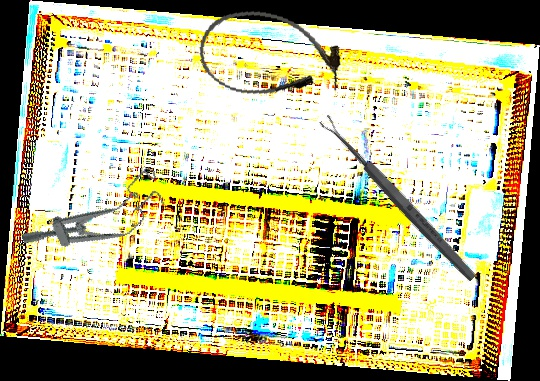Cannula: (192, 2, 349, 110)
Speculum: (16, 167, 174, 273)
Surgical Spoon: (318, 113, 479, 284)
